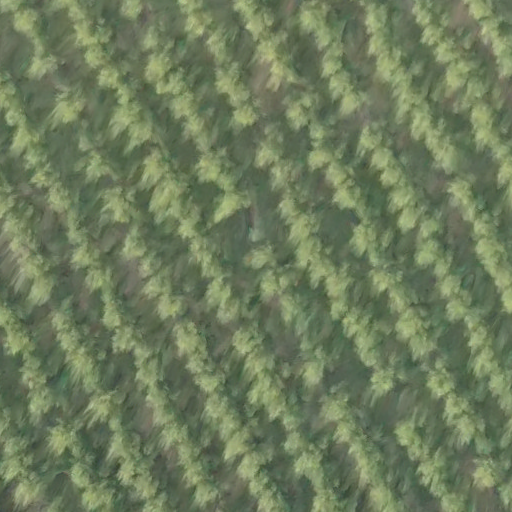eucalipto: (165, 315, 216, 357), (101, 184, 139, 227), (209, 186, 253, 223), (221, 423, 266, 459), (215, 65, 255, 104), (228, 319, 271, 355), (236, 446, 276, 483), (284, 89, 322, 127), (254, 130, 288, 172), (367, 362, 405, 399), (98, 295, 133, 335), (295, 448, 332, 484), (84, 151, 120, 187), (26, 46, 65, 79), (143, 50, 175, 90), (52, 90, 86, 127), (312, 44, 350, 76), (355, 121, 386, 160), (243, 472, 282, 503), (138, 271, 174, 304), (271, 55, 308, 87), (350, 220, 387, 252), (107, 429, 143, 461), (388, 414, 425, 445), (411, 237, 447, 268), (189, 478, 225, 509), (155, 294, 188, 327), (120, 228, 152, 262), (393, 306, 427, 338), (434, 35, 469, 66), (141, 150, 172, 185), (10, 7, 46, 37), (242, 350, 275, 382), (322, 387, 356, 418), (369, 262, 404, 292), (285, 210, 321, 239), (204, 276, 235, 309), (171, 89, 204, 120), (198, 149, 228, 183), (232, 100, 267, 129), (141, 20, 176, 49), (426, 366, 458, 397), (326, 70, 359, 100), (324, 268, 360, 295), (259, 29, 290, 60), (184, 10, 216, 40), (386, 281, 417, 311), (298, 356, 331, 384), (151, 390, 179, 423), (334, 180, 367, 208), (81, 16, 113, 44), (366, 145, 396, 174), (435, 271, 466, 299), (337, 89, 370, 115), (468, 102, 496, 132), (335, 418, 366, 445), (194, 368, 224, 395), (419, 21, 450, 47), (85, 268, 118, 292), (70, 242, 100, 268), (310, 146, 342, 168), (85, 40, 112, 66), (283, 429, 309, 455), (382, 165, 409, 190), (278, 406, 305, 430), (401, 202, 425, 228), (118, 1, 143, 18)
